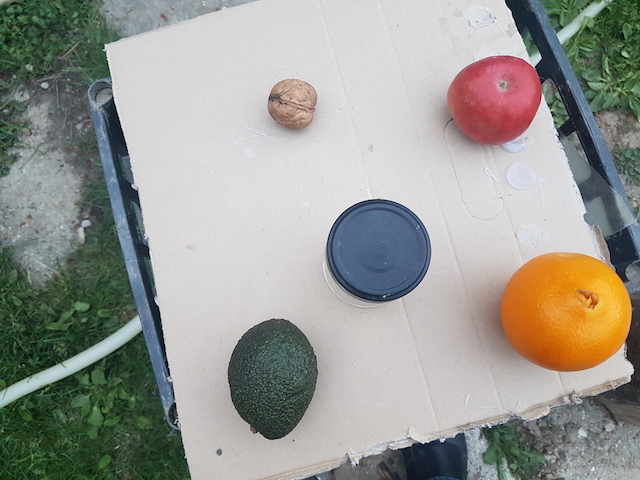apple: (444, 49, 544, 149)
avocado: (227, 314, 320, 444)
nut: (264, 77, 321, 131)
orange: (499, 249, 632, 373)
recipient: (328, 195, 433, 303)
